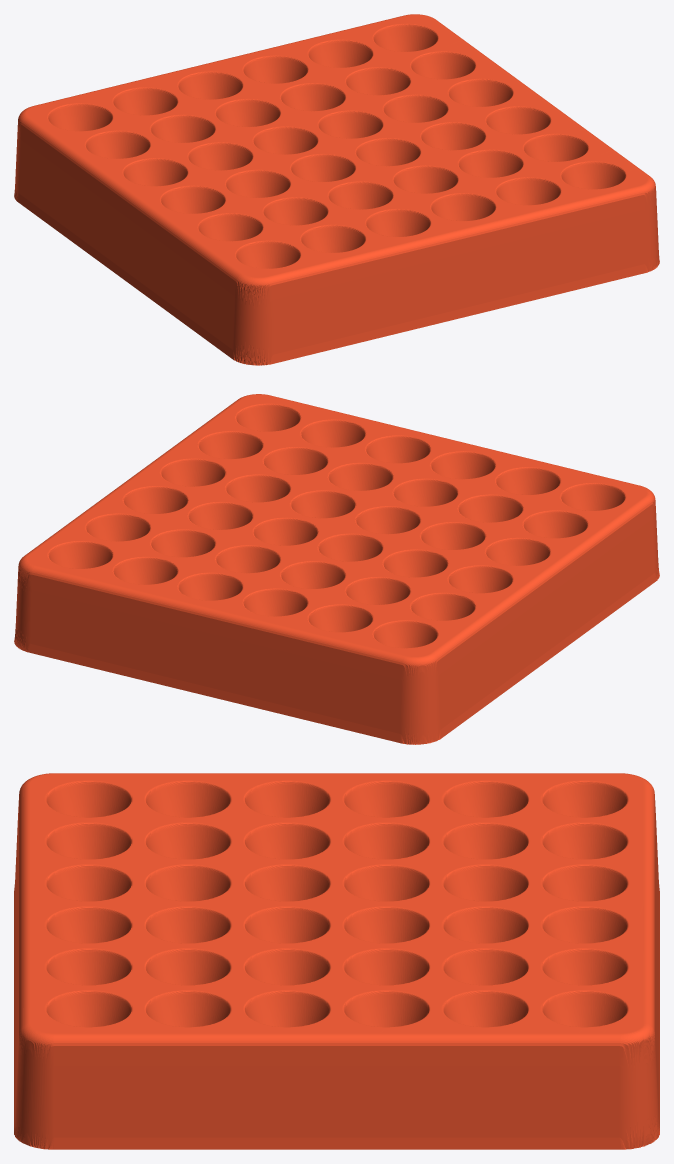
The model's file is mold.glb.
3 renders of one model, top to bottom at view 1: azimuth 30°, elevation 25°; view 2: azimuth 150°, elevation 25°; view 3: azimuth 270°, elevation 25°, orthographic. The views are drawn at different scales.
Visible parts, largest first — view 1: geometry_0; view 2: geometry_0; view 3: geometry_0.
Boxes of the visible parts, <box> form: geometry_0: <box>14,14,659,365</box>; geometry_0: <box>14,394,659,744</box>; geometry_0: <box>14,773,659,1149</box>.
Size of the model in its own units: 0.1447 by 0.027 by 0.1447.
